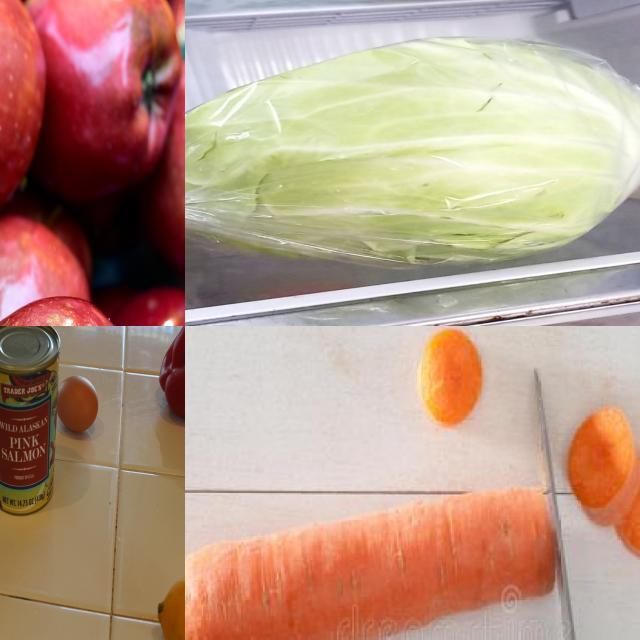bell_pepper: (154, 327, 186, 426)
cabbage: (186, 36, 640, 261)
carrot: (186, 483, 564, 640)
egg: (59, 370, 103, 440)
